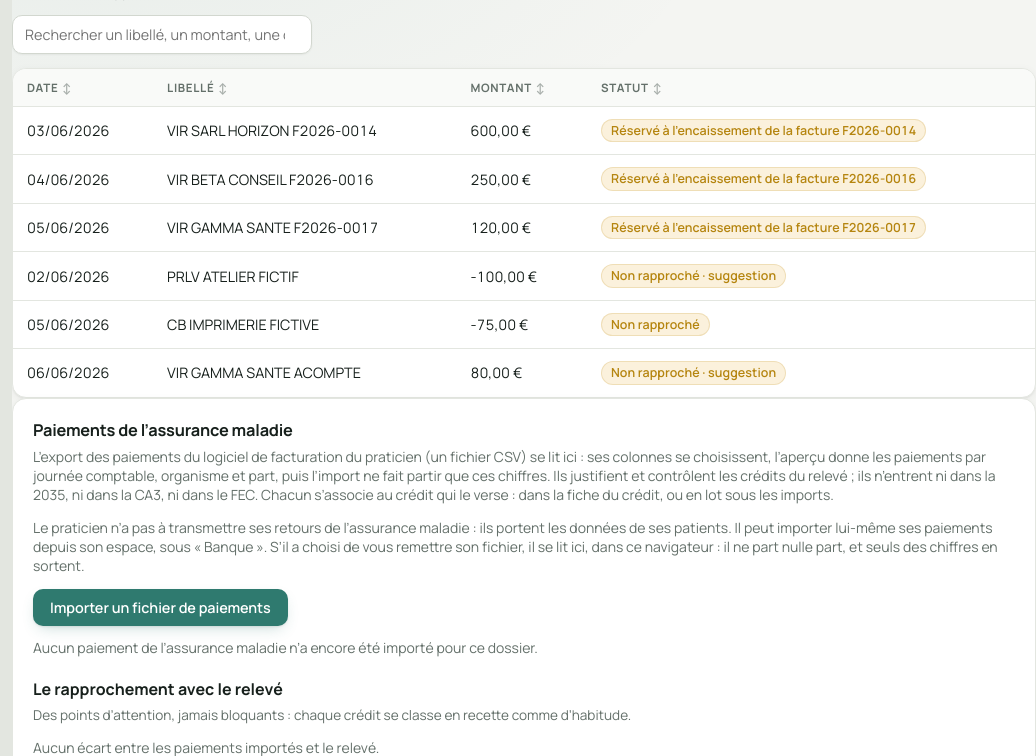
un dossier basculé, ses ventes facturées lues en entier : aucun lot n’envoie un mouvement réservé › la règle qu’on retiendrait depuis une fiche ne compte pas le réservé parmi ceux qu’elle proposera
(page scrolled)
Step 1. Click the row that starts with "VIR GAMMA SANTE ACOMPTE" → (524, 373), box [13,349,1035,397]
(page scrolled)
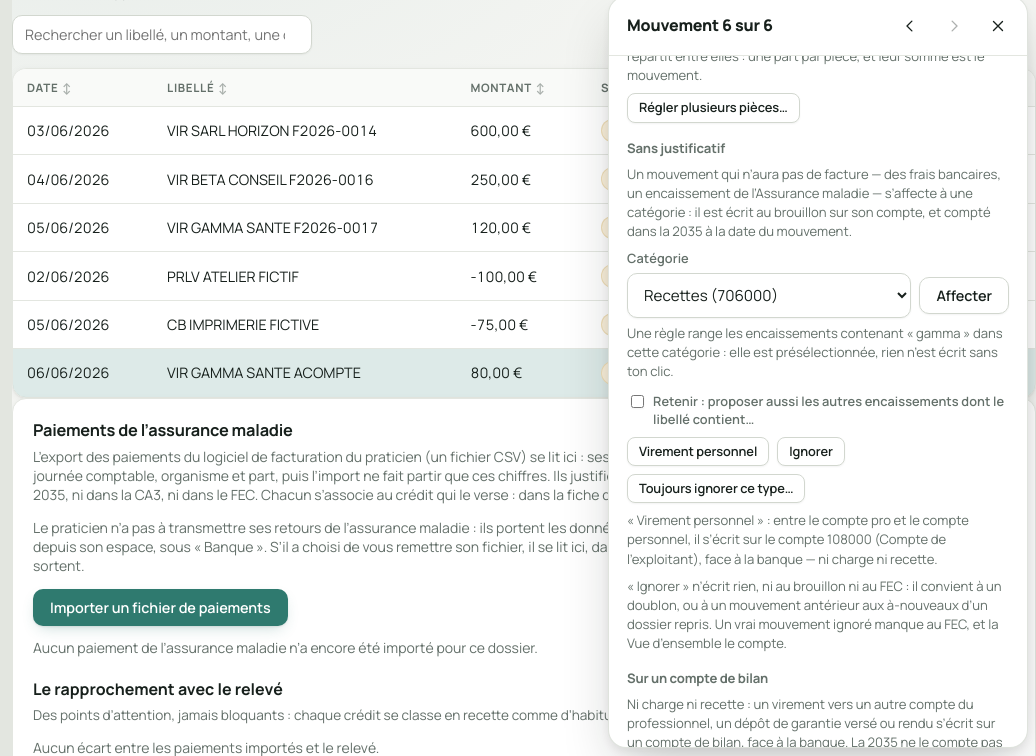
Step 2. Click the checkbox labelled "Retenir : proposer aussi les autres encaissements" → (638, 401), box [631,395,644,408]
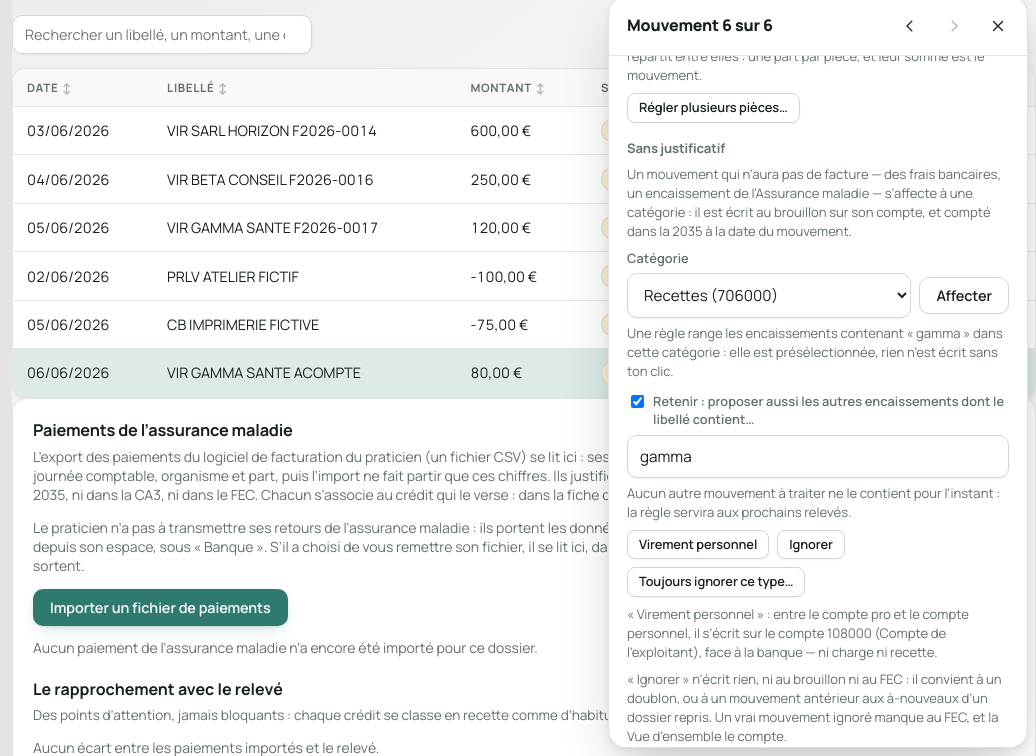
Expected: the text "Aucun autre mouvement à traiter ne le contient pour l’instant" is shown, [627,484,1000,521]
